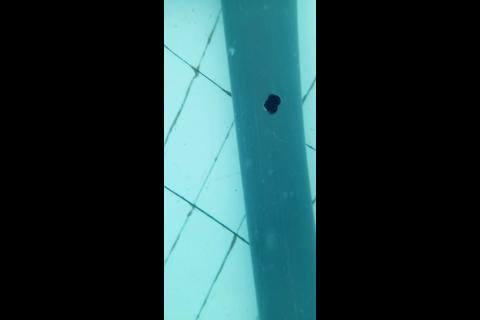kebocoran: (262, 91, 281, 116)
